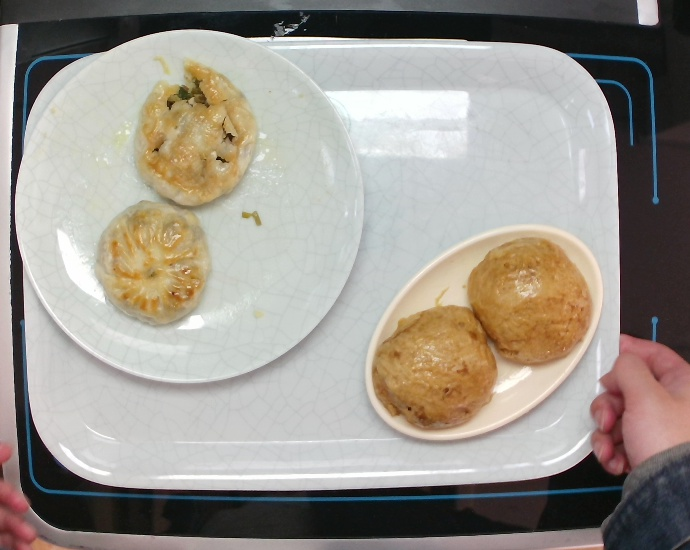JYsf-Da_Yuan_Pan: (13, 27, 366, 385)
JYsf-Tuo_Yuan_Wan: (363, 221, 605, 443)
